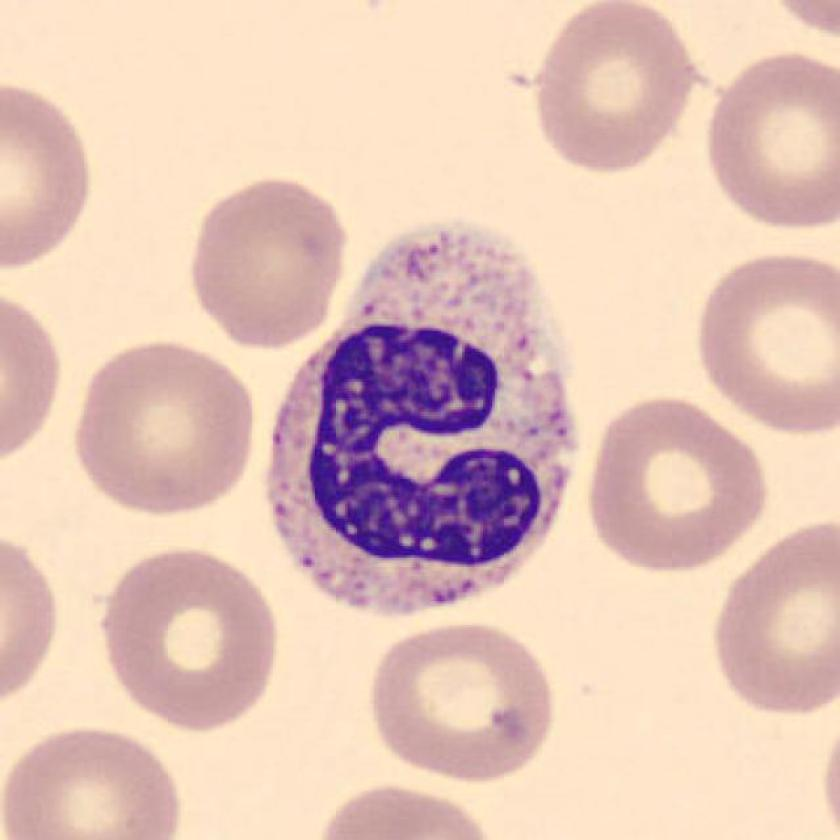neutrophil: (266, 223, 579, 607)
